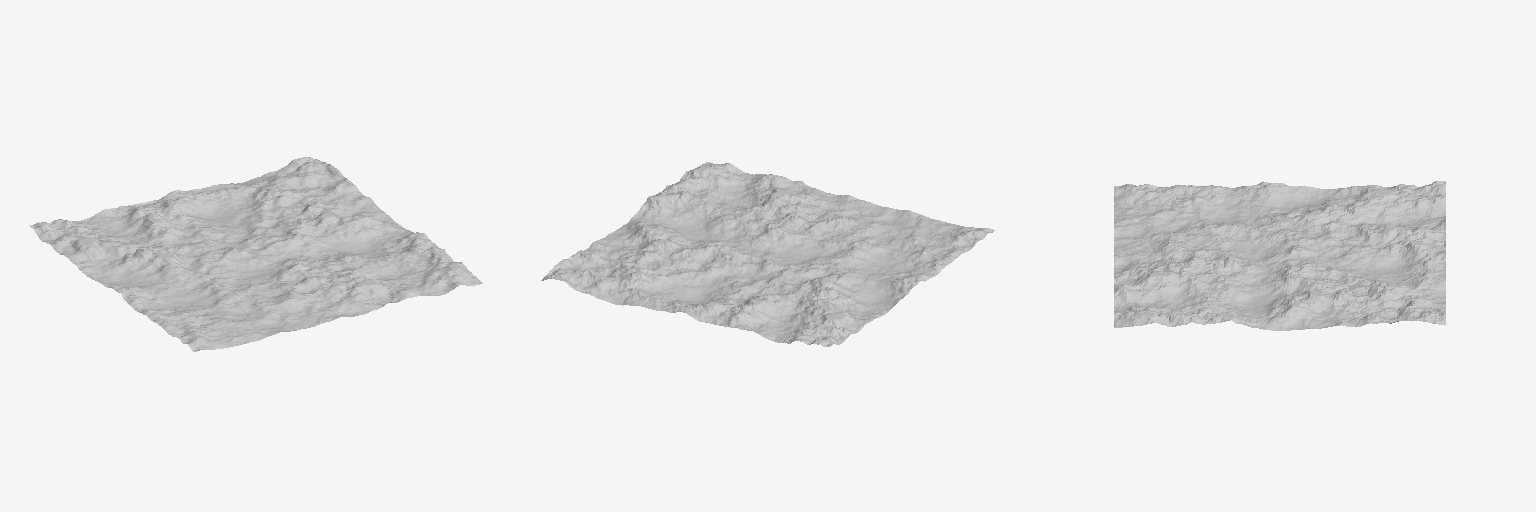
File: landscape.obj
3 renders of one model, left to right at view 1: azimuth 30°, elevation 25°; view 2: azimuth 150°, elevation 25°; view 3: azimuth 270°, elevation 25°, orthographic.
Visible parts, largest first — view 1: Landscape; view 2: Landscape; view 3: Landscape.
Part boxes in pixels (left/top/right/bottom): Landscape: left=29, top=157, right=482, bottom=351; Landscape: left=541, top=162, right=994, bottom=346; Landscape: left=1114, top=181, right=1445, bottom=330.
Size of the model in its own units: 100 by 3.91 by 100.